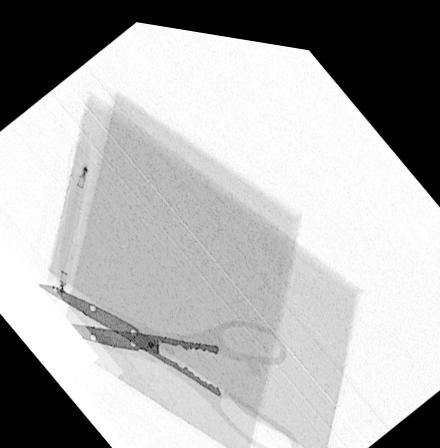Scissors: (32, 281, 301, 448)
